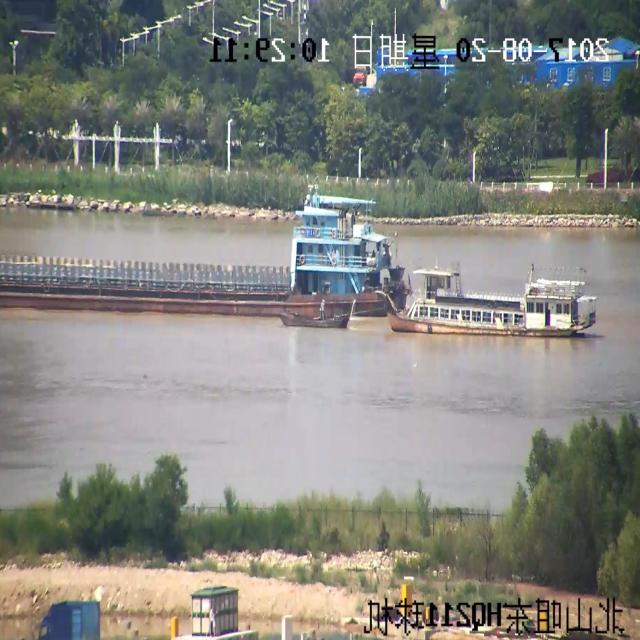cargoship: (0, 176, 396, 347)
houseboat: (388, 260, 597, 348)
